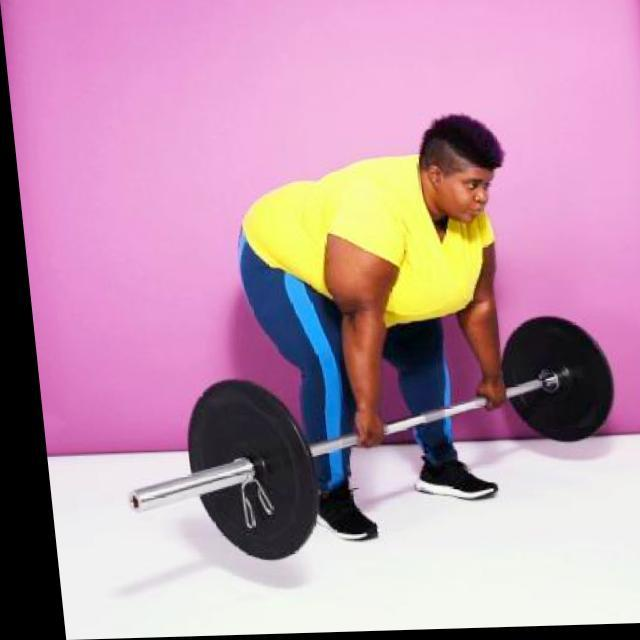barbell: (105, 374, 316, 570)
